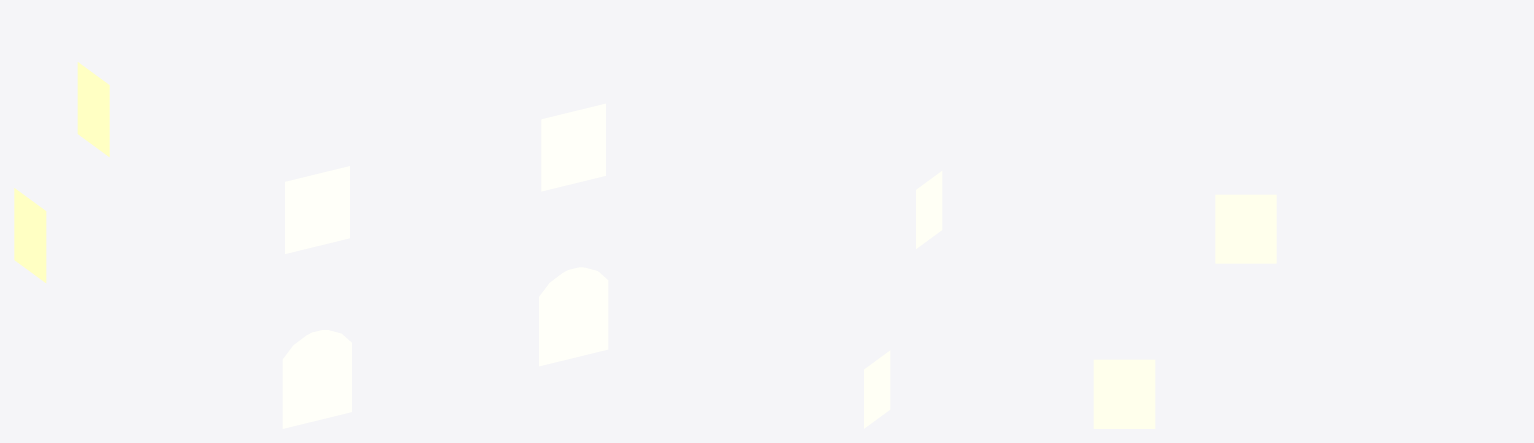
Rendered from bv_kh_a_lit.glb.
3 renders of one model, left to right at view 1: azimuth 30°, elevation 25°; view 2: azimuth 150°, elevation 25°; view 3: azimuth 270°, elevation 25°, orthographic. The views are drawn at different scales.
Visible parts, largest first — view 1: lit; view 2: lit; view 3: lit.
Part boxes in pixels (bbox=[...]): lit: bbox=[14, 62, 608, 428]; lit: bbox=[864, 171, 942, 428]; lit: bbox=[1093, 194, 1276, 428].
Bounding box in the file's own units: 7.03 × 4.29 × 7.51.
